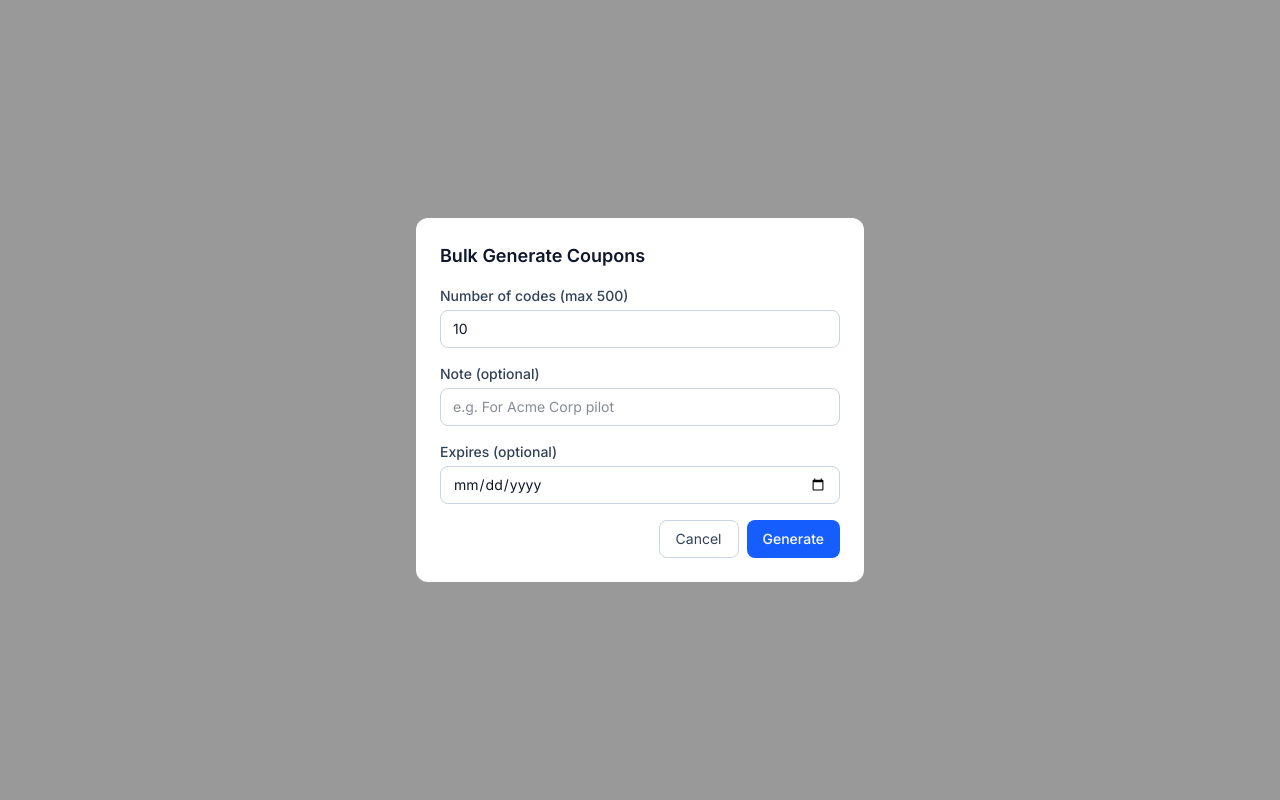
Test: CreateCouponModal › shows the bulk live message wording for bulk mode
Click the button "Generate" at point(793, 539), box [746,520,840,558]
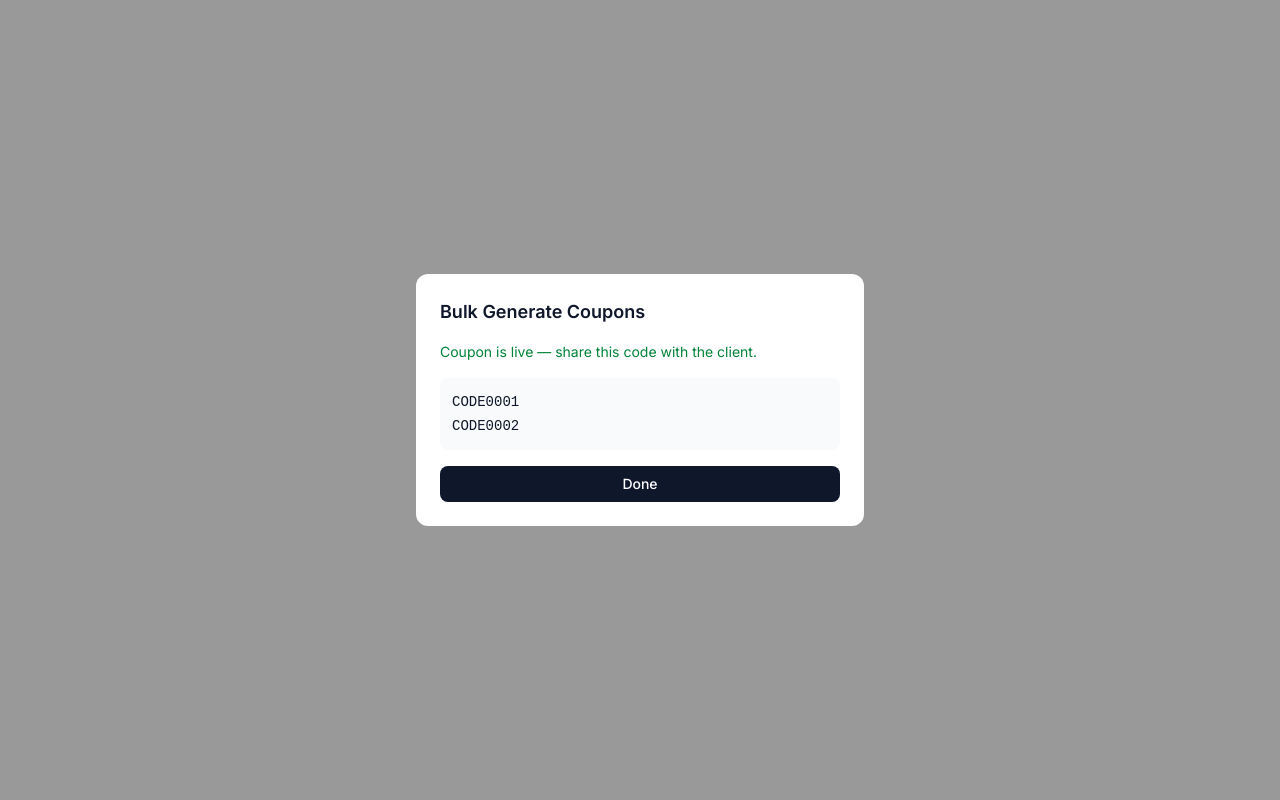
Now the text "CODE0001" is shown, box [452,394,519,410]
Now the text "Coupon is live — share this code with the client." is shown, box [440,343,757,360]
Now the button "Done" is shown, box [440,466,840,502]
